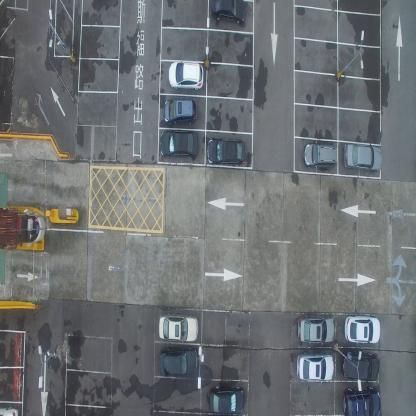car: (157, 312, 199, 342), (167, 58, 204, 92), (206, 136, 246, 167), (159, 128, 199, 159), (158, 346, 198, 376), (343, 314, 382, 344), (341, 352, 380, 382), (342, 386, 381, 416), (296, 352, 334, 382), (344, 142, 382, 172), (208, 385, 245, 415), (297, 315, 335, 343), (301, 142, 337, 170), (162, 97, 198, 125), (209, 0, 247, 25), (0, 405, 20, 415)
